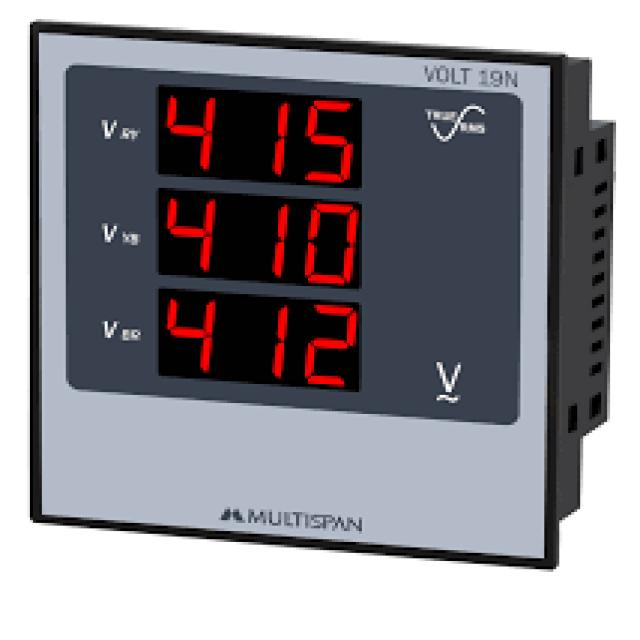0: (309, 195, 366, 286)
1: (243, 199, 297, 287), (259, 86, 298, 182), (253, 302, 298, 383)
2: (302, 302, 368, 388)
4: (147, 282, 231, 387), (156, 188, 228, 277), (156, 85, 229, 172)
5: (306, 91, 362, 188)
screen: (148, 80, 369, 191), (153, 286, 374, 395), (150, 188, 370, 294)
